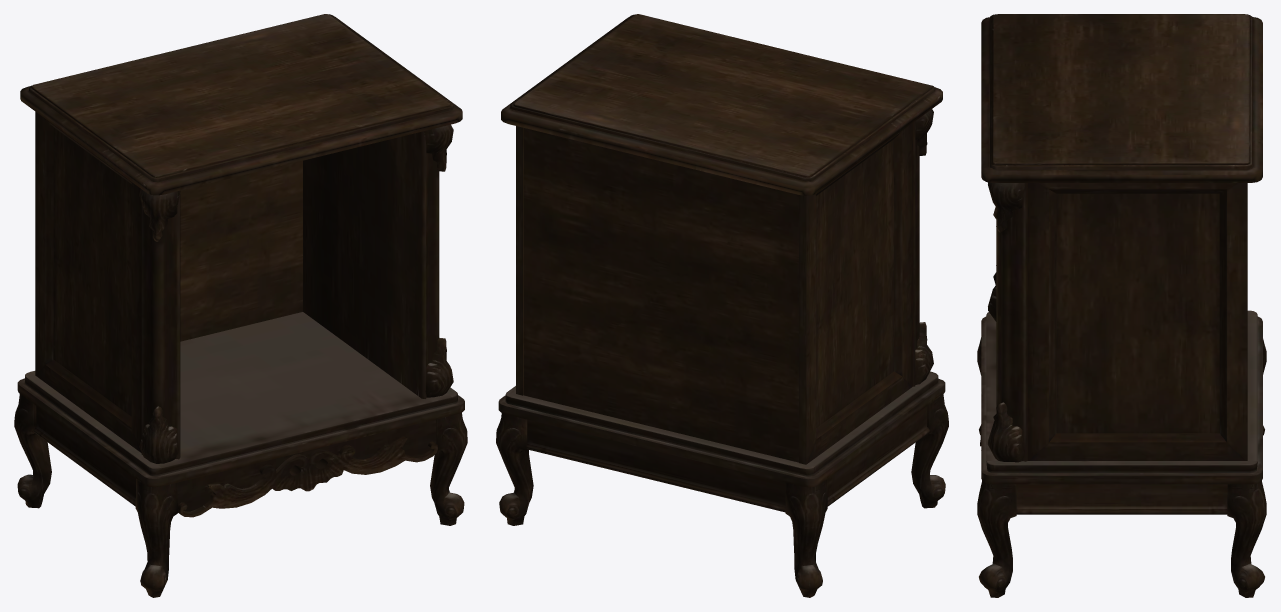
File: ClassicNightstand_01.glb
3 renders of one model, left to right at view 1: azimuth 30°, elevation 25°; view 2: azimuth 150°, elevation 25°; view 3: azimuth 270°, elevation 25°, orthographic. The views are drawn at different scales.
Visible parts, largest first — view 1: ClassicNightstand_01; view 2: ClassicNightstand_01; view 3: ClassicNightstand_01.
Boxes of the visible parts, box(x1,y1,x2,y2) form: ClassicNightstand_01: box(14, 14, 467, 597); ClassicNightstand_01: box(496, 14, 948, 597); ClassicNightstand_01: box(977, 14, 1266, 597).
Bounding box in the file's own units: 0.5678 × 0.7 × 0.4242.
1 material, 1 textured.
